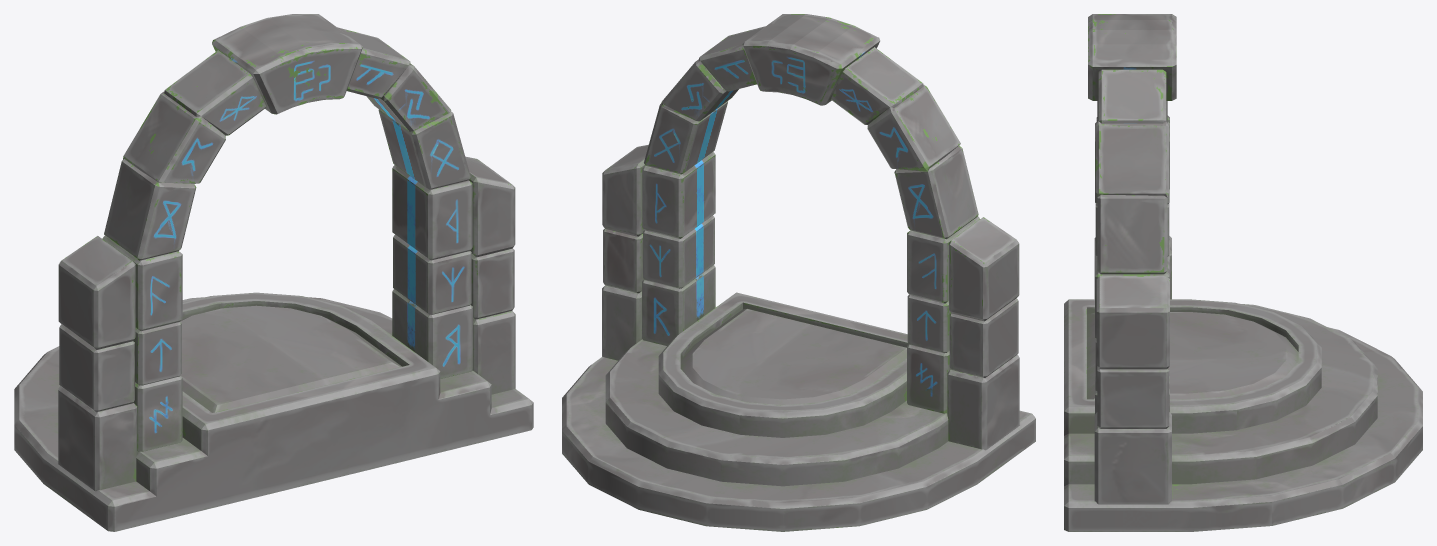
File: Gate_01a.fbx
3 views of the same model, side by side, from view 1: azimuth 30°, elevation 25°; view 2: azimuth 150°, elevation 25°; view 3: azimuth 270°, elevation 25° (orthographic). The views are drawn at different scales.
Parts seen in each view (by area): view 1: Cube.009; view 2: Cube.009; view 3: Cube.009.
Boxes of the visible parts, bbox=[...] form: Cube.009: bbox=[14, 14, 533, 531]; Cube.009: bbox=[562, 14, 1035, 531]; Cube.009: bbox=[1064, 14, 1422, 531].
Size of the model in its own units: 194 by 184 by 149.
2 materials, 2 textured.
